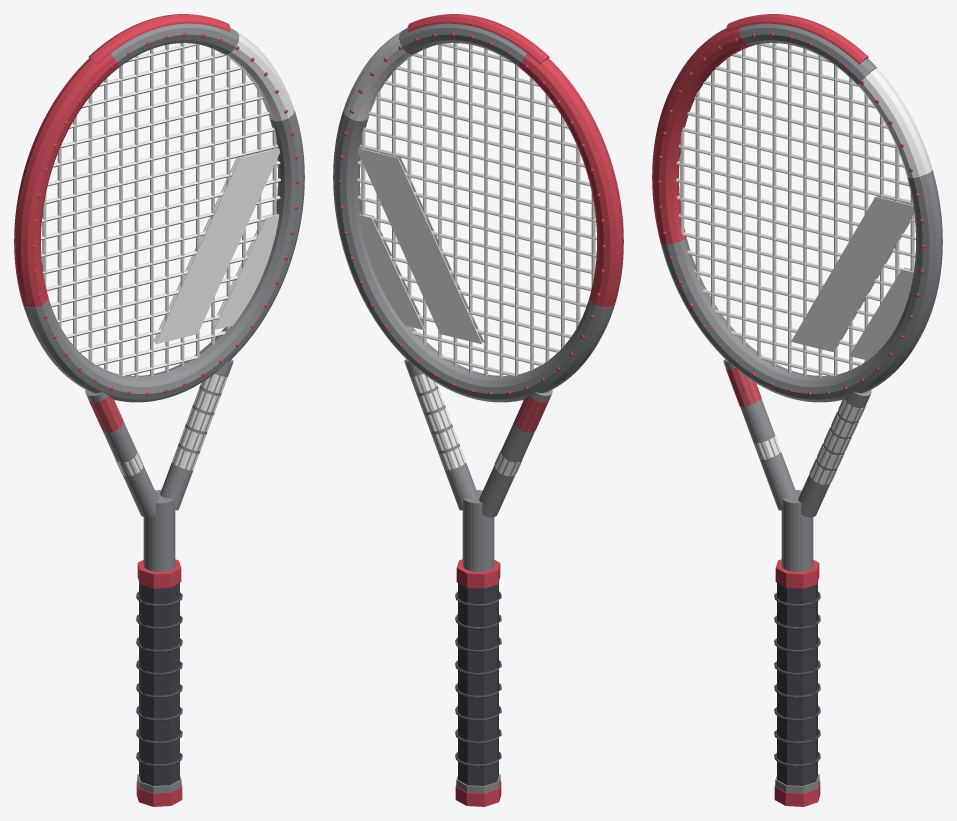
File: tecnifibre-tfight-305-isoflex.glb
The picture shows the model from 3 angles, left to right: view 1: azimuth 30°, elevation 25°; view 2: azimuth 150°, elevation 25°; view 3: azimuth 330°, elevation 25°; orthographic projection.
Parts seen in each view (by area): view 1: strings, frame, stencil, frame_black, handle, frame_white, throat, shaft, wraps, collar, grommets, cap; view 2: strings, frame, stencil, frame_black, handle, frame_white, throat, shaft, wraps, collar, grommets, cap; view 3: strings, frame, stencil, frame_black, handle, frame_white, throat, shaft, wraps, collar, grommets, cap.
Boxes of the visible parts, x1,y1,x2,y2 form: strings: (41,43,280,377); frame: (23,23,304,402); stencil: (153,148,279,344); frame_black: (14,14,230,432); handle: (139,582,179,785); frame_white: (115,31,294,476); throat: (85,359,233,517); shaft: (143,490,175,571); wraps: (136,591,182,766); collar: (137,559,181,588); grommets: (32,32,299,395); cap: (136,781,182,806); strings: (357,43,596,377); frame: (333,23,614,402); stencil: (358,148,484,344); frame_black: (407,14,623,432); handle: (458,582,498,785); frame_white: (343,31,522,476); throat: (404,359,552,517); shaft: (462,490,494,571); wraps: (455,591,501,766); collar: (456,559,500,588); grommets: (338,32,605,395); cap: (455,781,501,806); strings: (675,43,915,377); frame: (660,23,942,402); stencil: (791,196,914,360); frame_black: (652,14,868,406); handle: (777,582,817,785); frame_white: (753,68,932,484); throat: (723,359,871,517); shaft: (781,490,813,571); wraps: (774,591,820,766); collar: (775,559,819,588); grommets: (657,32,924,395); cap: (774,781,820,806).
Bounding box in the file's own units: 0.272 × 0.7055 × 0.039.
